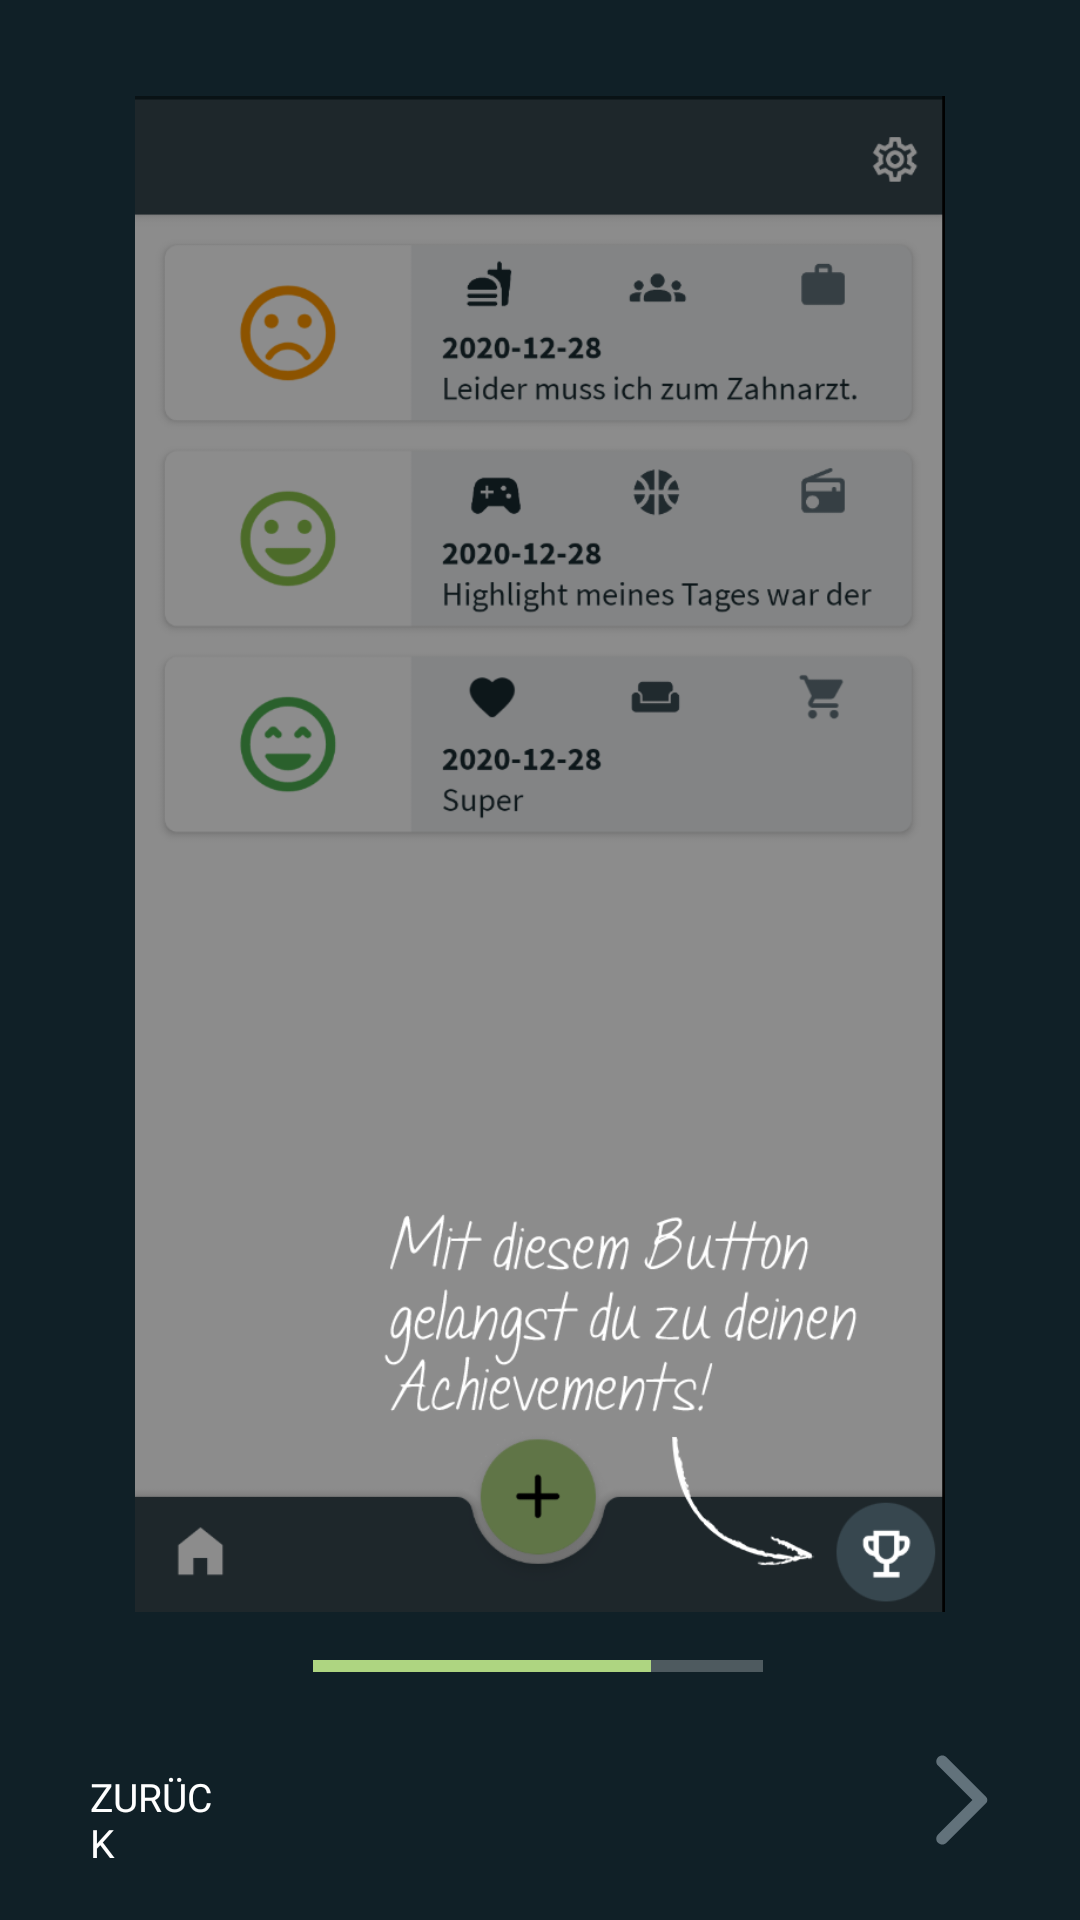

Screen size 1080px×1920px. Icon name, then its box in pixels as (x1, y1, x2, y2):
weiter: (936, 1755, 987, 1845)
